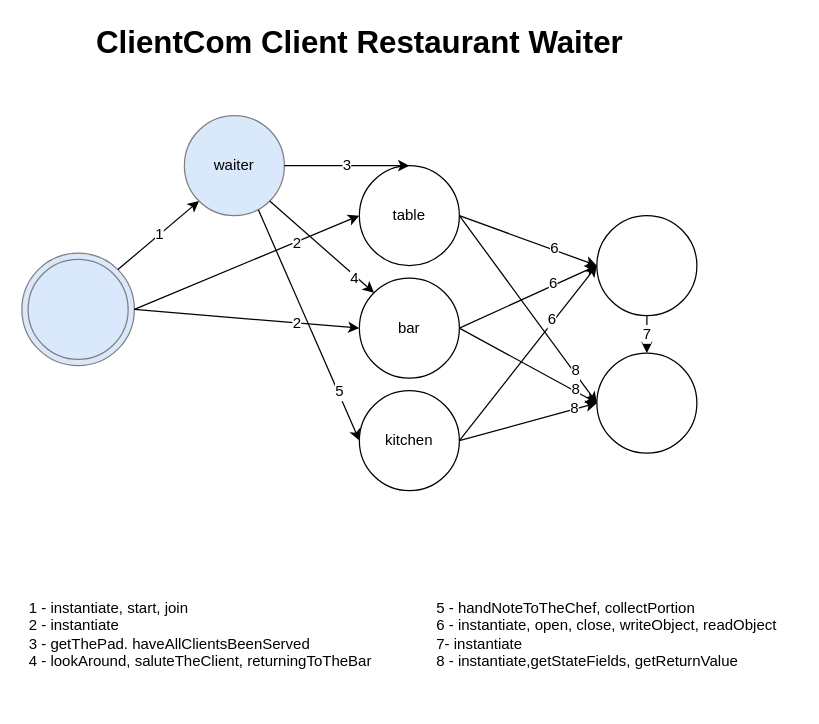
Some shapes in this 819 by 724 pixel diagram are drawn without their labels. The shapes that lost their labels are listed below. From the top down, each one's centre as x and y in pixels, then its label:
At point 646,265: "com".
At point 77,308: "Client Restaurant Waiter".
At point 646,402: "m_toServer m_fromServer".
